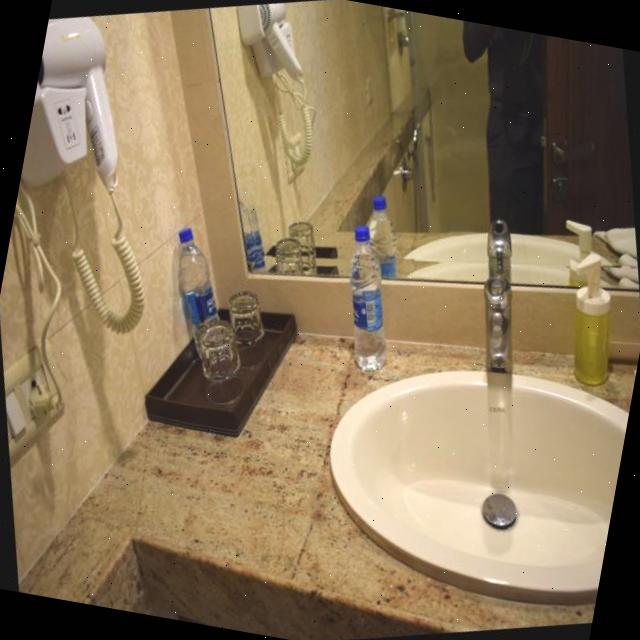clean_sink: (169, 216, 640, 631)
